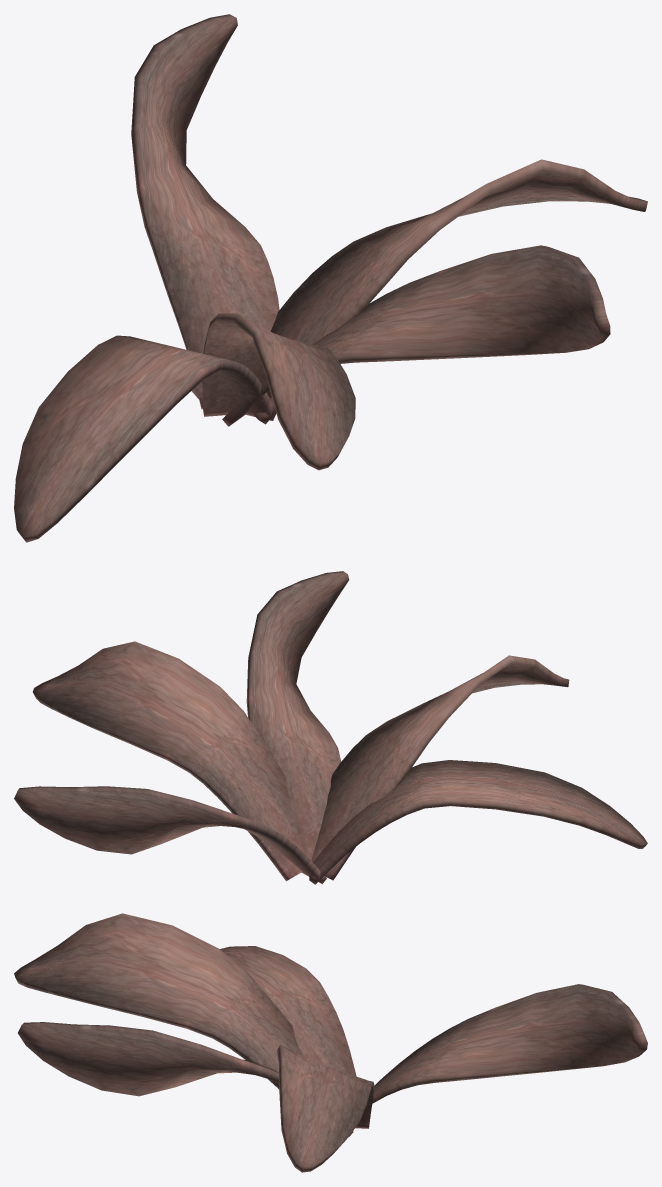
File: calyx6_sb2_b.dae
The picture shows the model from 3 angles, top to bottom: view 1: azimuth 30°, elevation 25°; view 2: azimuth 150°, elevation 25°; view 3: azimuth 270°, elevation 25°; orthographic projection. The views are drawn at different scales.
Visible parts, largest first — view 1: calyx5_002, calyx5_001, calyx3, calyx4_001, calyx4; view 2: calyx4_001, calyx5_001, calyx3, calyx5_002, calyx4; view 3: calyx4, calyx5_002, calyx5_001, calyx4_001, calyx3.
Boxes of the visible parts, x1,y1,x2,y2 form: calyx5_002: (131, 14, 279, 409); calyx5_001: (222, 245, 610, 426); calyx3: (14, 335, 276, 542); calyx4_001: (251, 159, 647, 424); calyx4: (202, 313, 355, 470); calyx4_001: (33, 641, 303, 881); calyx5_001: (246, 571, 349, 860); calyx3: (309, 760, 647, 884); calyx5_002: (14, 786, 326, 884); calyx4: (311, 655, 569, 880); calyx4: (14, 913, 302, 1089); calyx5_002: (365, 984, 647, 1108); calyx5_001: (18, 1022, 353, 1136); calyx4_001: (276, 1045, 374, 1172); calyx3: (220, 946, 356, 1076).
Bounding box in the file's own units: 0.0826 × 0.0818 × 0.0239.
Materials: 6 (6 with a texture image).
